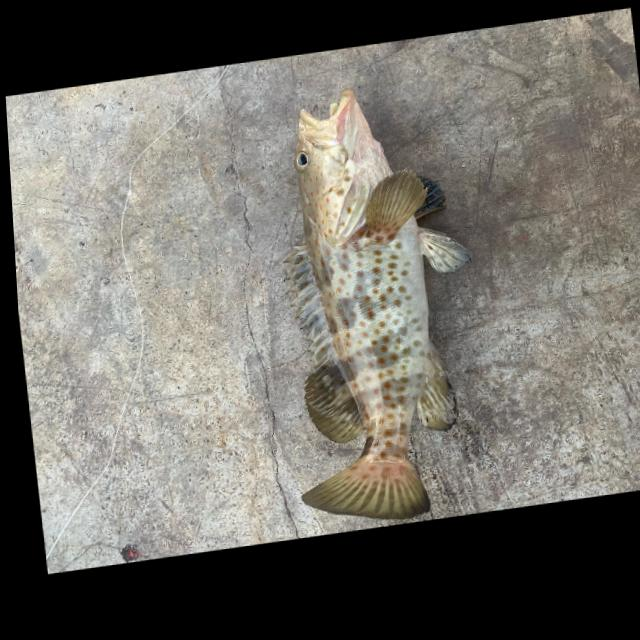Groupers: (254, 74, 502, 540)
